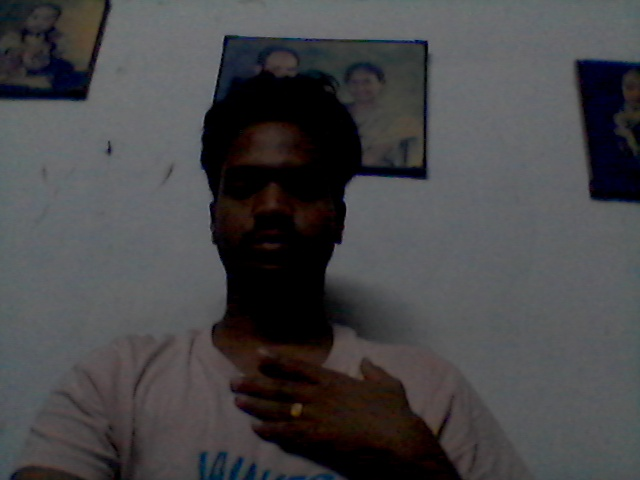Fine: (229, 335, 449, 480)
